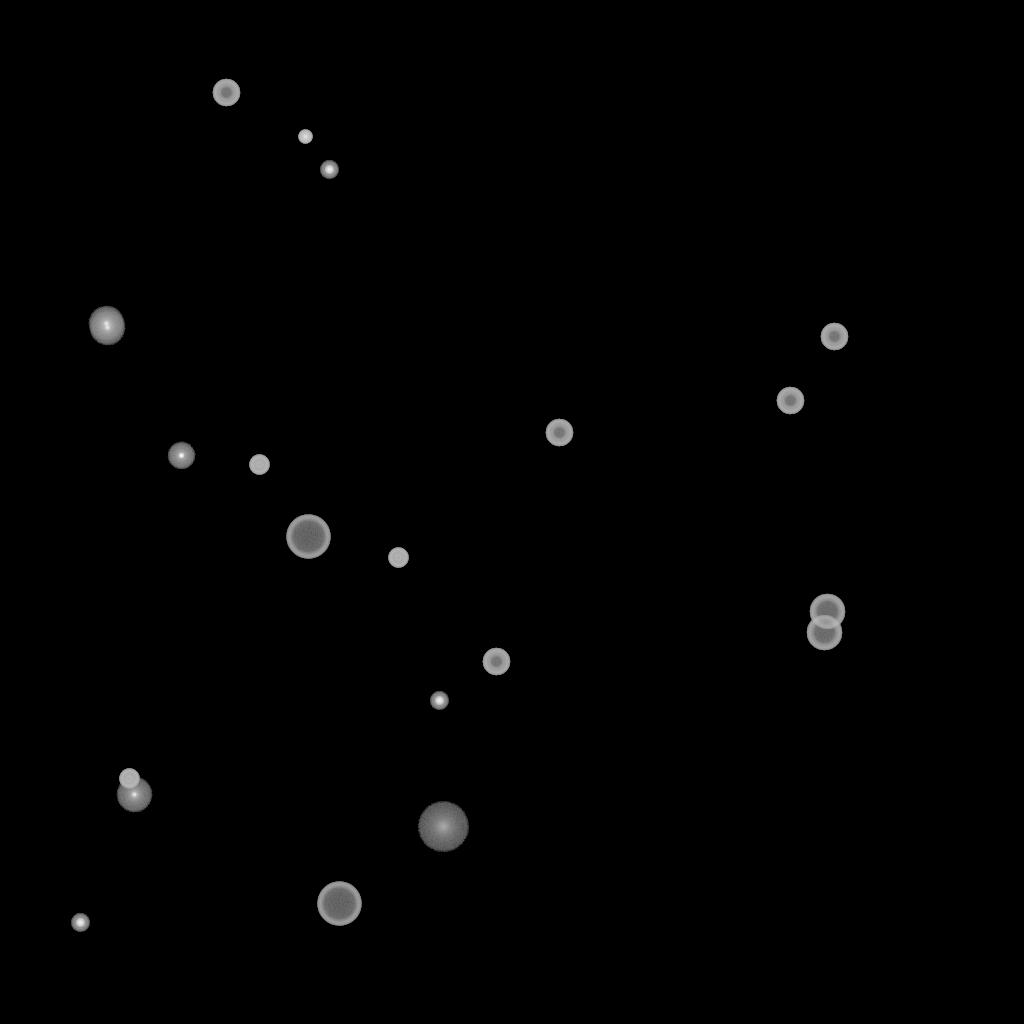depth:-10: (167, 442, 195, 470)
depth:-20: (430, 692, 448, 710), (71, 914, 89, 932), (320, 161, 338, 179)
depth:-30: (298, 130, 312, 144)
depth:-40: (388, 548, 408, 568), (119, 769, 139, 789), (249, 455, 269, 475)
depth:-50: (482, 648, 510, 676), (820, 323, 848, 351), (776, 387, 804, 415), (212, 79, 240, 107), (545, 419, 573, 447)
depth:-60: (809, 594, 845, 630), (806, 615, 842, 651)
depth:-70: (286, 515, 330, 559), (317, 882, 361, 926)
depth:0: (116, 777, 152, 813), (89, 310, 125, 346), (88, 306, 124, 342)
depth:20: (417, 802, 469, 852)
